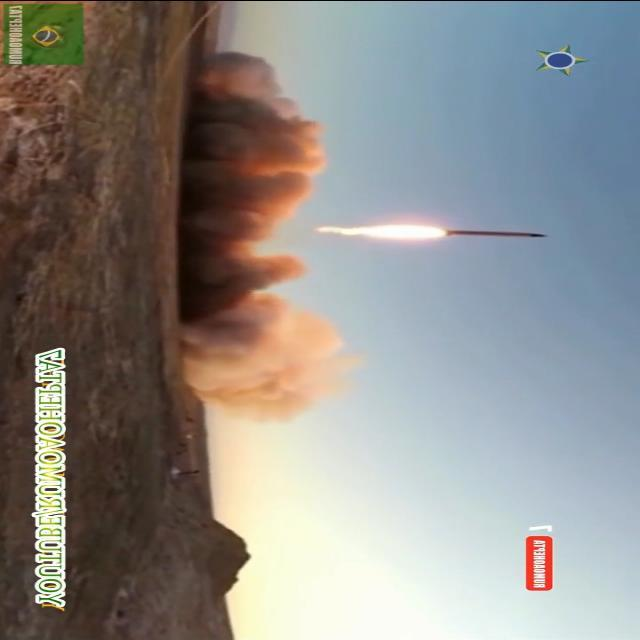Missile: (434, 225, 558, 241)
